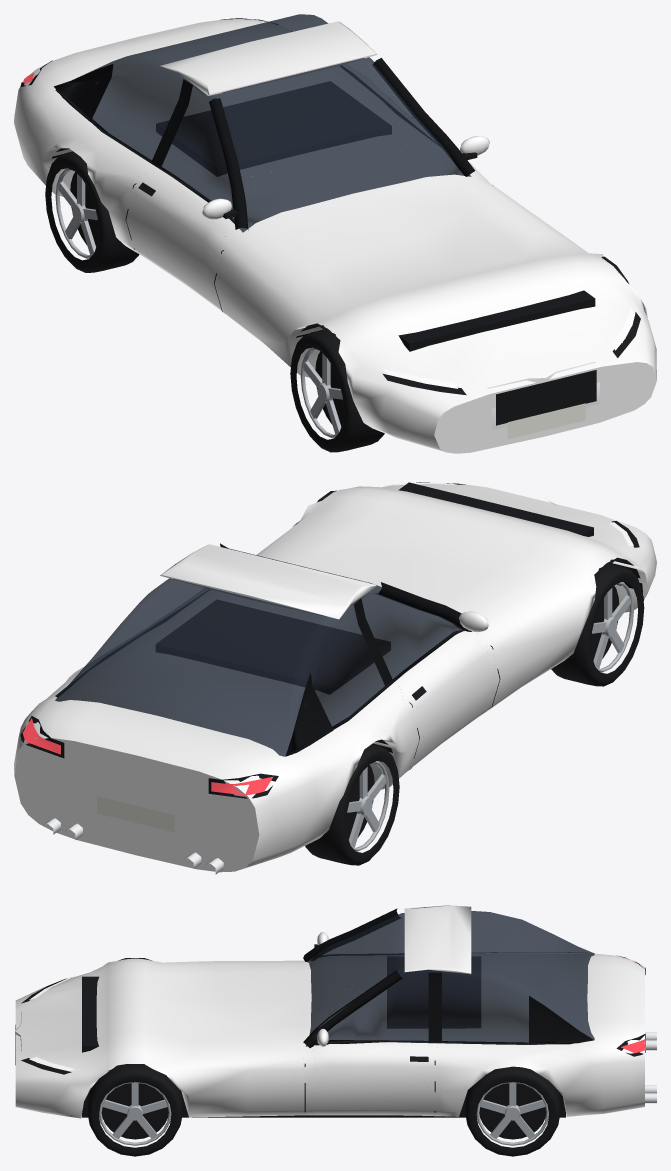
File: mercedes_amg_gt.lod.glb
3 renders of one model, top to bottom at view 1: azimuth 30°, elevation 25°; view 2: azimuth 150°, elevation 25°; view 3: azimuth 270°, elevation 25°, orthographic. The views are drawn at different scales.
Parts seen in each view (by area): view 1: body_paint, body_glass, body_trim, door_glass (×2), door_paint, tire (×2), body_pillar, rim (×2), door_pillar, headlights; view 2: body_paint, body_glass, body_trim, door_paint, tire (×2), door_glass, rim (×2), body_pillar, door_pillar, taillights, body_chrome, rim_back; view 3: body_paint, body_glass, door_paint, body_trim, tire (×2), door_glass (×2), rim_back (×2), body_pillar, rim (×2), door_pillar, body_chrome.
Part boxes in pixels (left/top/right/bottom): body_paint: left=14, top=19, right=656, bottom=453; body_glass: left=62, top=14, right=437, bottom=207; body_trim: left=20, top=18, right=640, bottom=439; door_glass (×2): left=161, top=57, right=471, bottom=232; door_paint: left=123, top=172, right=240, bottom=311; tire (×2): left=45, top=151, right=384, bottom=452; body_pillar: left=54, top=58, right=475, bottom=230; rim (×2): left=55, top=168, right=342, bottom=438; door_pillar: left=159, top=84, right=240, bottom=229; headlights: left=383, top=308, right=635, bottom=388; body_paint: left=14, top=482, right=656, bottom=872; body_glass: left=55, top=547, right=384, bottom=756; body_trim: left=20, top=482, right=643, bottom=832; door_paint: left=398, top=631, right=500, bottom=774; tire (×2): left=305, top=564, right=644, bottom=865; door_glass: left=355, top=583, right=464, bottom=678; rim (×2): left=347, top=582, right=633, bottom=851; body_pillar: left=220, top=543, right=466, bottom=756; door_pillar: left=359, top=583, right=471, bottom=681; taillights: left=22, top=718, right=273, bottom=795; body_chrome: left=43, top=501, right=554, bottom=874; rim_back: left=346, top=765, right=374, bottom=839; body_paint: left=15, top=905, right=644, bottom=1118; body_glass: left=311, top=911, right=594, bottom=1044; door_paint: left=303, top=1044, right=439, bottom=1115; body_trim: left=21, top=954, right=645, bottom=1117; tire (×2): left=87, top=1065, right=560, bottom=1156; door_glass (×2): left=305, top=914, right=433, bottom=1046; rim_back (×2): left=101, top=1083, right=546, bottom=1139; body_pillar: left=303, top=908, right=593, bottom=1044; rim (×2): left=99, top=1082, right=548, bottom=1145; door_pillar: left=305, top=972, right=431, bottom=1047; body_chrome: left=15, top=1012, right=656, bottom=1103.
Size of the model in its own units: 2.03 by 1.38 by 4.83.
